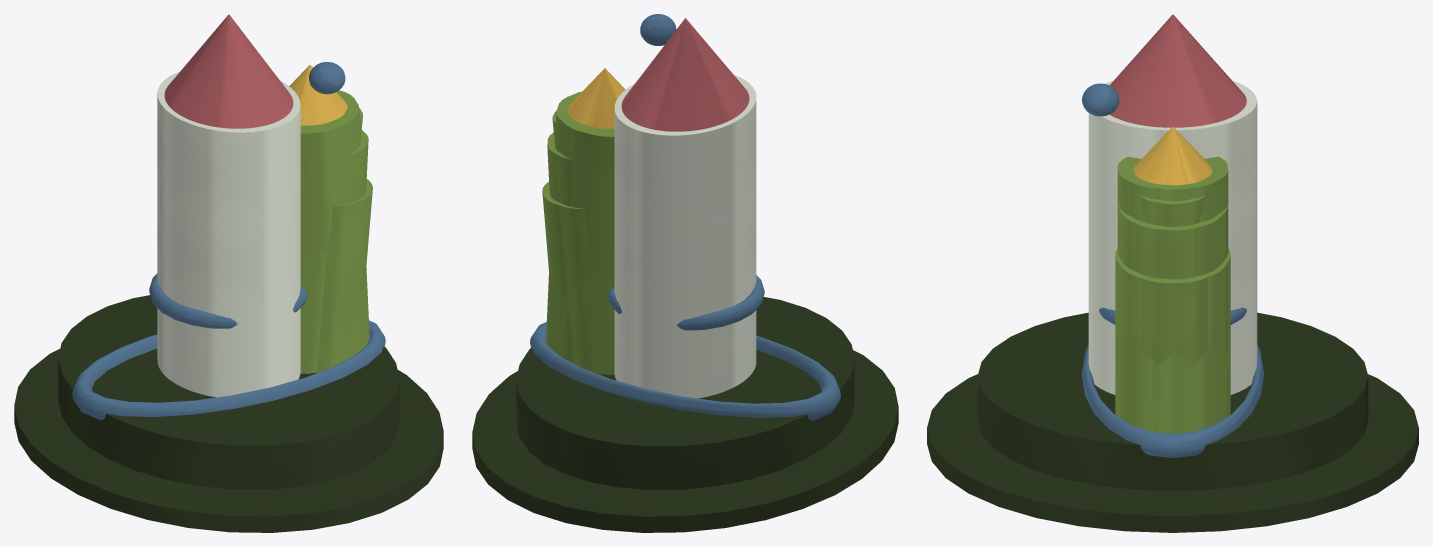
File: 0528_古代奥运图鉴_奥林匹亚格斗场.glb
3 views of the same model, side by side, from view 1: azimuth 30°, elevation 25°; view 2: azimuth 150°, elevation 25°; view 3: azimuth 270°, elevation 25° (orthographic). The views are drawn at different scales.
Visible parts, largest first — view 1: card_0528; view 2: card_0528; view 3: card_0528.
Part boxes in pixels (x1=…): card_0528: x1=14, y1=14, x2=443, y2=532; card_0528: x1=472, y1=14, x2=898, y2=532; card_0528: x1=927, y1=14, x2=1418, y2=532.
Size of the model in its own units: 0.8845 by 1 by 1.04.
